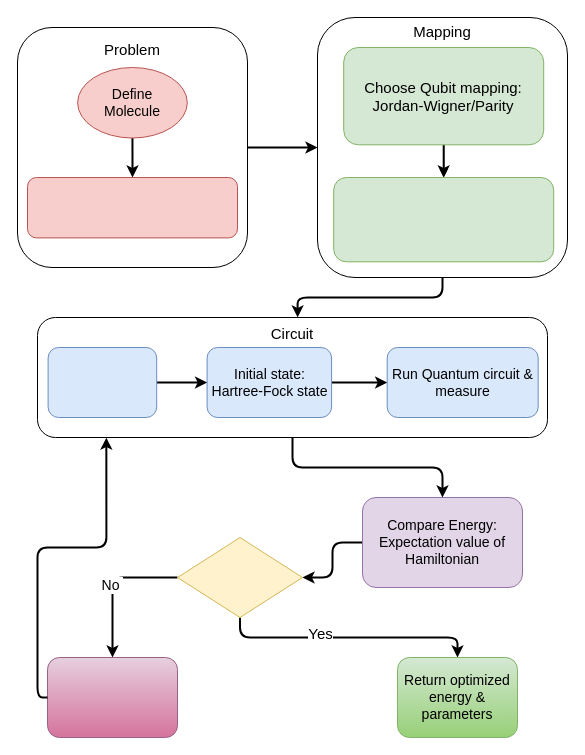
Image size: 585x755. Some labels were removed from this diagram. Each missing label, with the centre of its shape:
"Converged?" belongs at (239,577).
"Initialize Parameters: all zero" belongs at (102,382).
"Select active orbitals & electron" belongs at (132,207).
"Select Ansatz: UCCSD, PUCCD, etc. This defines circuit structure" belongs at (443,219).
"Update parameters via classical optimizer" belongs at (112,697).
